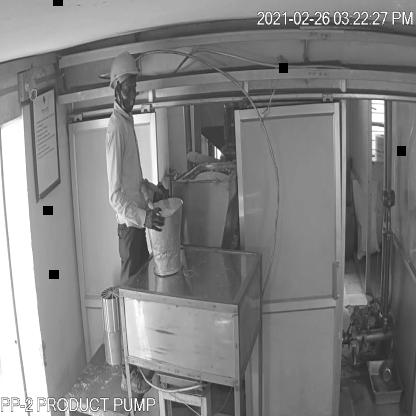helmet: (107, 47, 142, 90)
